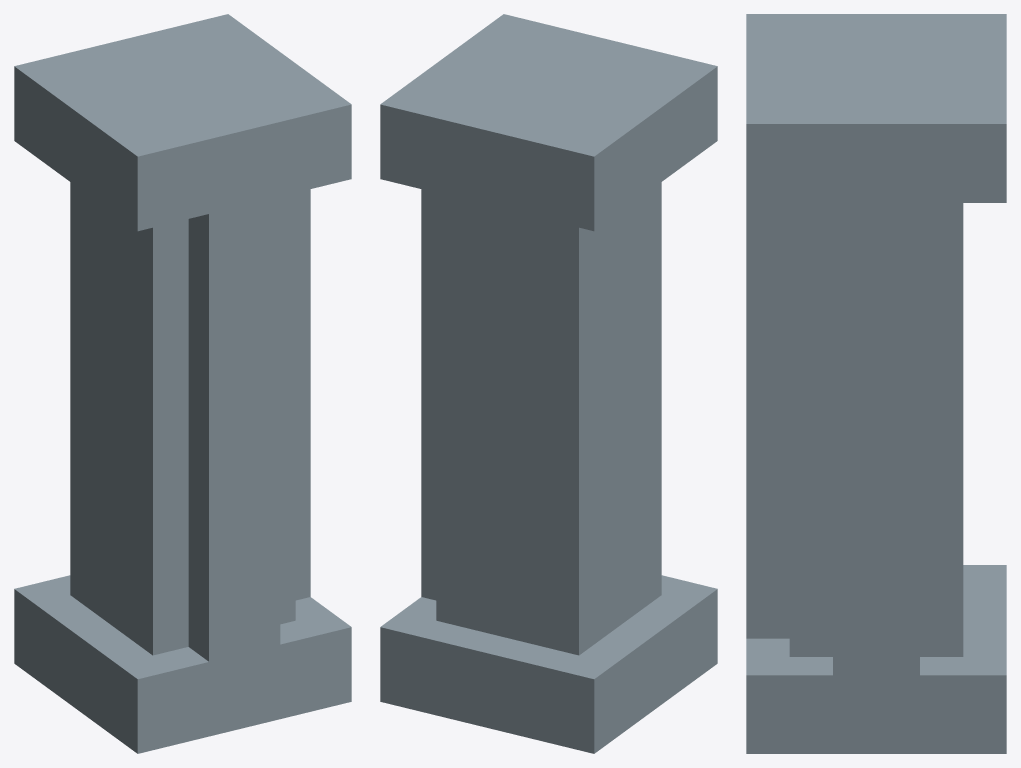
The model's file is column.glb.
3 renders of one model, left to right at view 1: azimuth 30°, elevation 25°; view 2: azimuth 150°, elevation 25°; view 3: azimuth 270°, elevation 25°, orthographic. The views are drawn at different scales.
Parts seen in each view (by area): view 1: column; view 2: column; view 3: column.
Part boxes in pixels (x1,y1,x2,y2): column: (14,14,351,753); column: (380,14,717,753); column: (746,14,1006,753).
Size of the model in its own units: 0.75 by 2 by 0.75.
